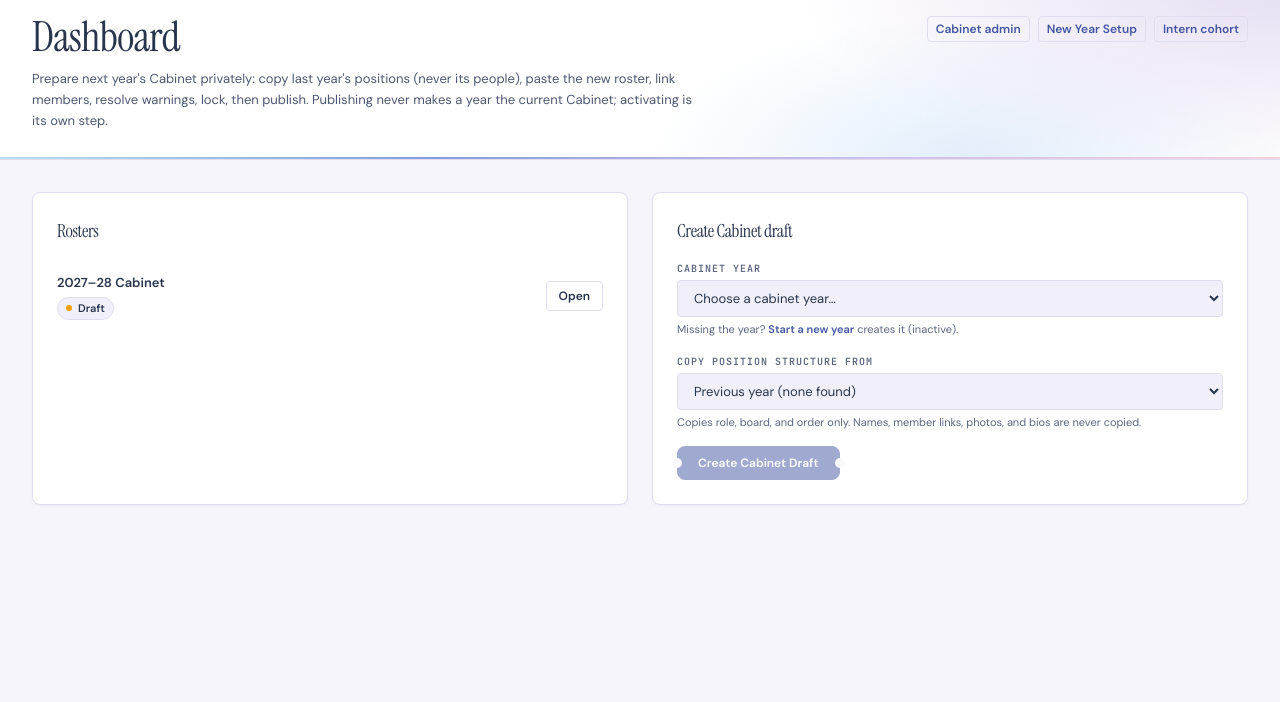
Test: filters, bulk actions, structure copy, and preview › shows chips with counts and filters positions
What coordinates should you click on to do the following:
click the button "Open"
I would click on:
 (574, 296)
Its box is [546, 281, 603, 311].
(page scrolled)
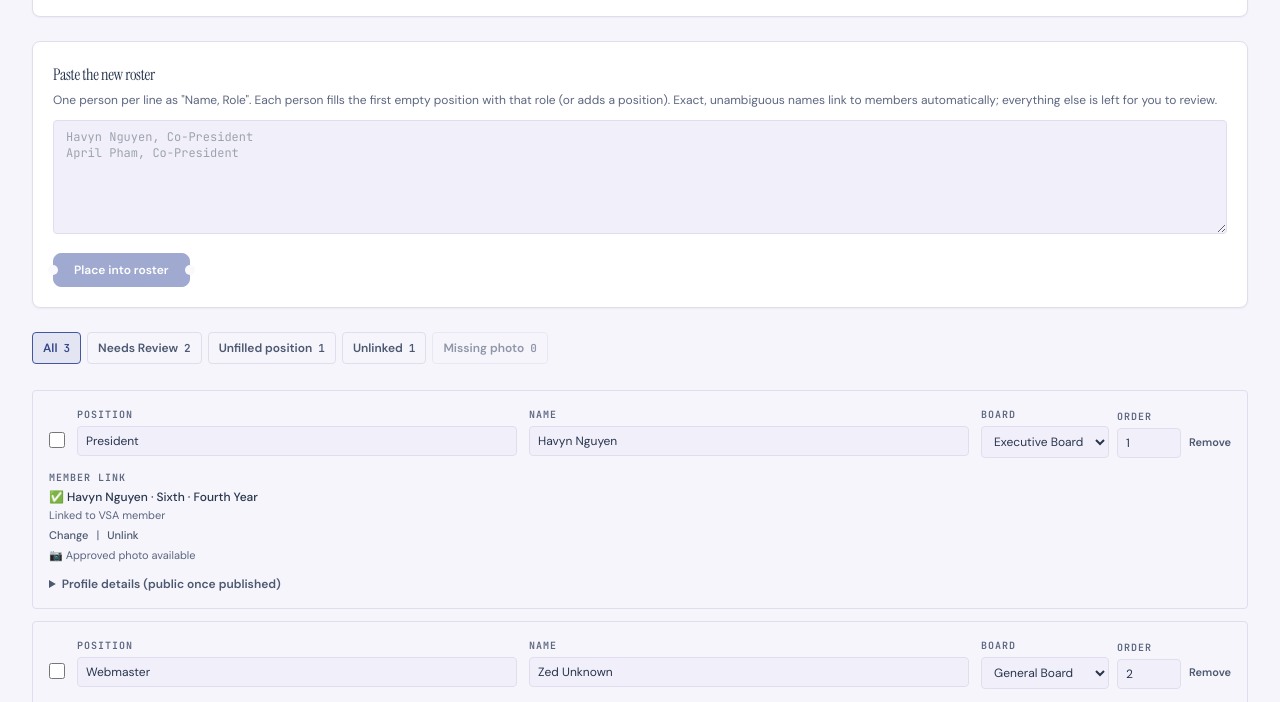
Result: the button "Unfilled position 1" is shown at [208, 332, 336, 364]
Result: the button "Unlinked 1" is shown
What coordinates should you click on to do the following:
click the button "Unlinked 1"
I would click on:
 (384, 348)
Its box is [342, 332, 426, 364].
(page scrolled)
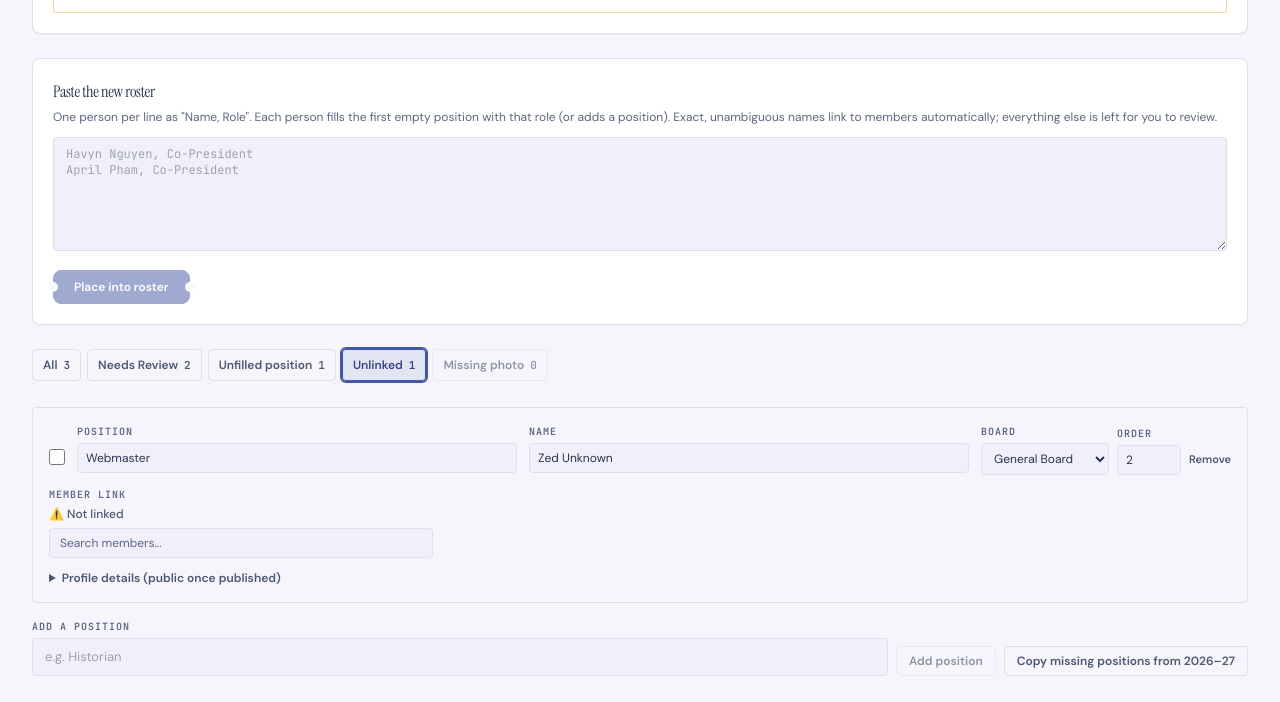
Result: the number of list items with test id "roster-row" is 1 at [32, 407, 1248, 603]
